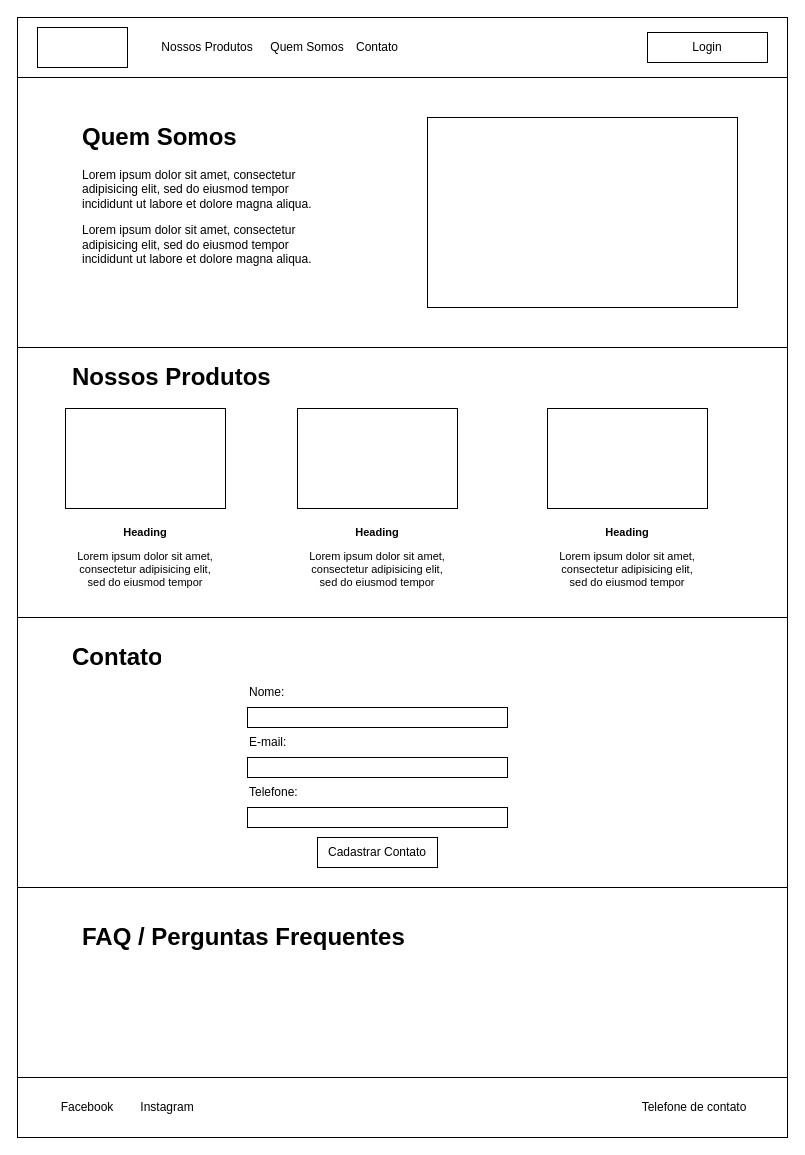
Some shapes in this 805 by 1155 pixel diagram are drawn without their labels. The shapes that lost their labels are listed below. From the top down, each one's box as (x1, y1, x2, y2) in pixels, then its label:
(36, 26, 128, 68): LOGOMARCA
(426, 116, 738, 308): Imagem da Empresa ou do Produto
